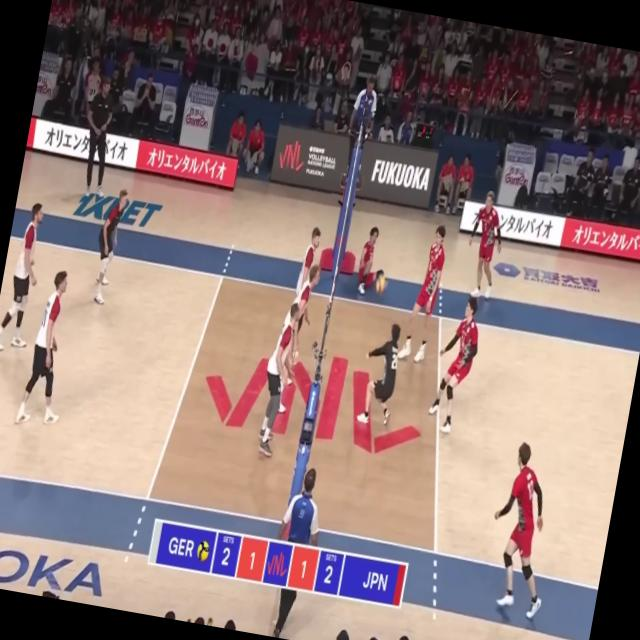referee: (258, 461, 329, 640)
team_one: (14, 265, 84, 431), (252, 298, 302, 459), (0, 198, 51, 355), (279, 262, 321, 387), (89, 186, 129, 307), (292, 227, 324, 312)
team_two: (476, 440, 568, 624), (424, 292, 486, 442), (396, 220, 450, 364), (353, 318, 406, 430), (460, 188, 510, 299), (351, 223, 389, 300)
